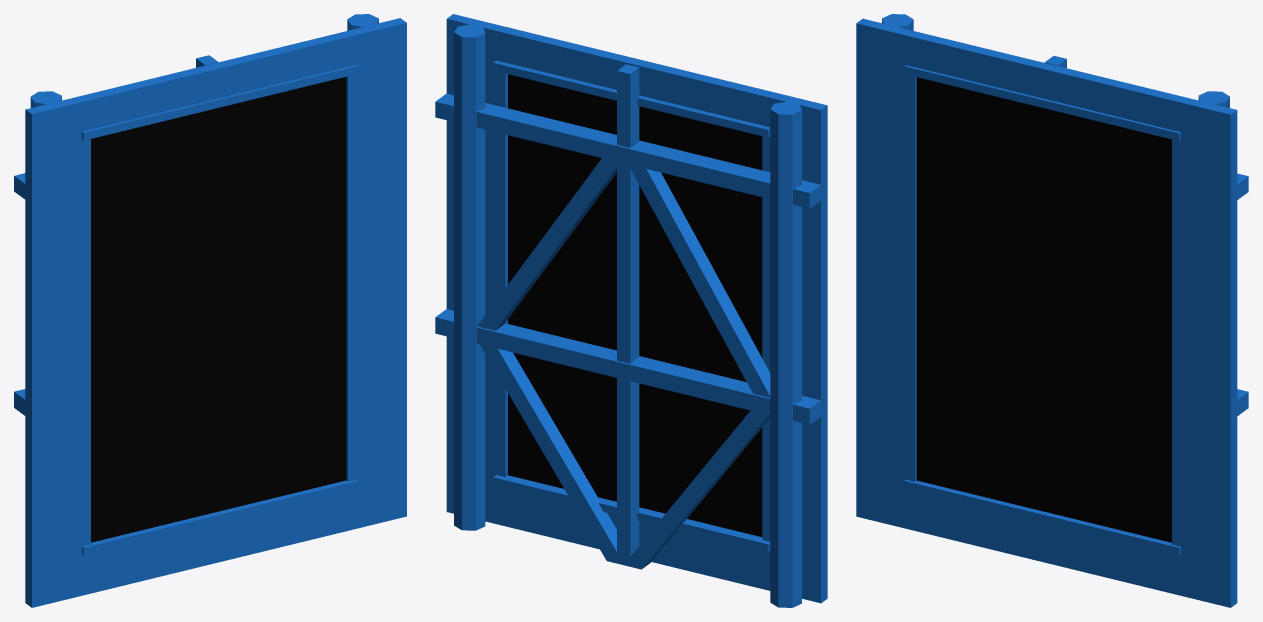
File: SM_wall1.fbx
3 renders of one model, left to right at view 1: azimuth 30°, elevation 25°; view 2: azimuth 150°, elevation 25°; view 3: azimuth 330°, elevation 25°, orthographic.
Visible parts, largest first — view 1: wall1; view 2: wall1; view 3: wall1.
Part boxes in pixels (x1,y1,x2,y2): wall1: [14, 14, 406, 607]; wall1: [435, 14, 827, 607]; wall1: [856, 14, 1248, 607].
Size of the model in its own units: 400 by 503 by 42.89.
